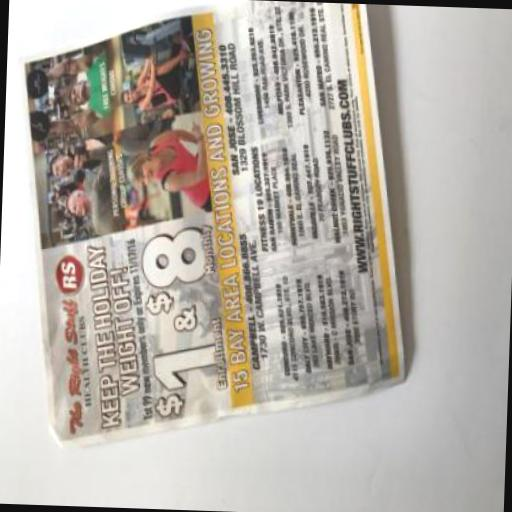paper: (1, 0, 416, 457)
